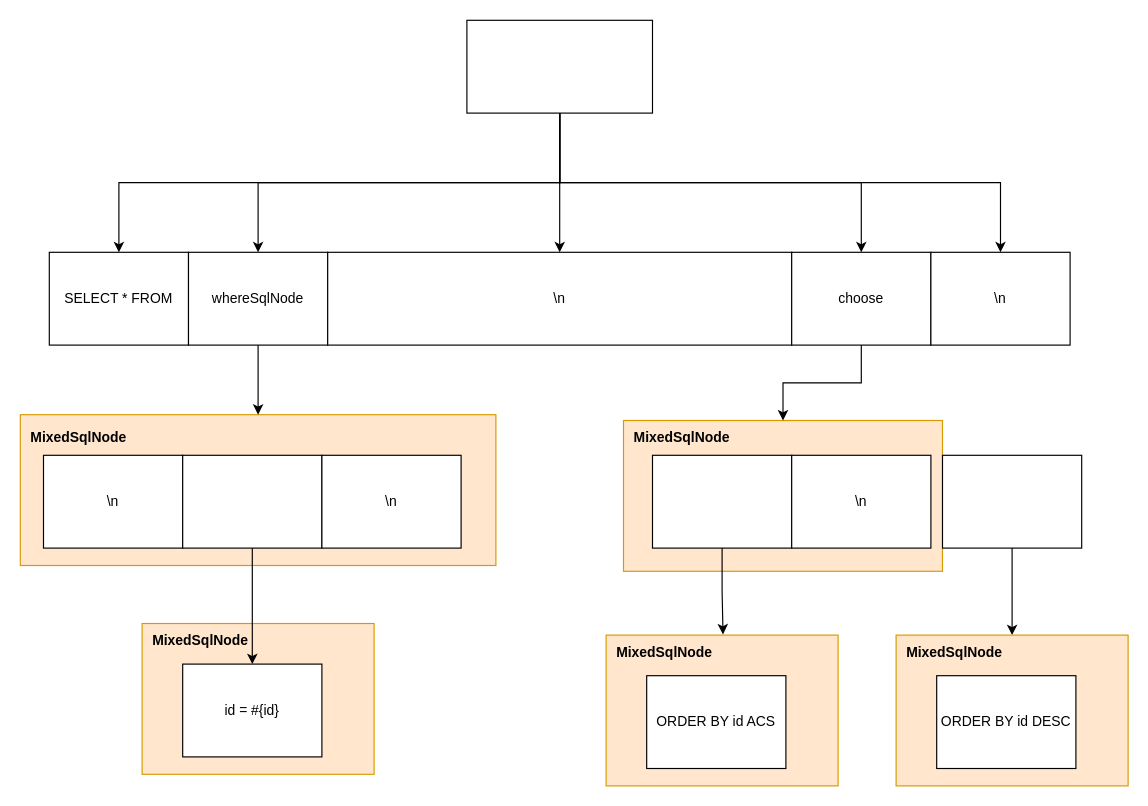
Image size: 1148x806. Some labels were removed from this diagram. The centre of each missing label's shape, as x and y in pixels:
defaultSqlNode: the point at 1011,501
if: the point at 721,501
ifSqlNode: the point at 252,501
SqlSource: the point at 559,66
